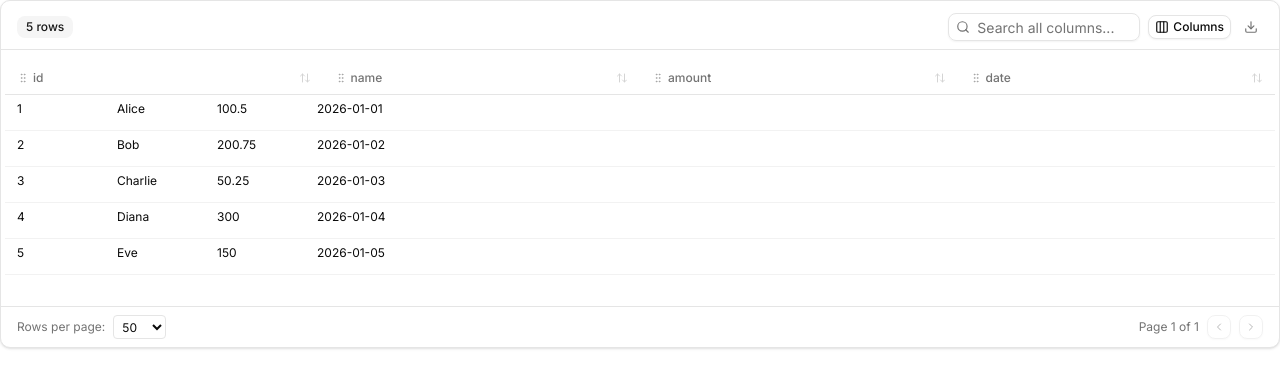
DataTable › sorts ascending on header click
Note: Click the name column header to sort ascending
What coordinates should you click on to do the following:
click the column heading with test id "column-header-name"
I would click on:
 (481, 78)
Its box is x1=322 y1=62 x2=640 y2=94.
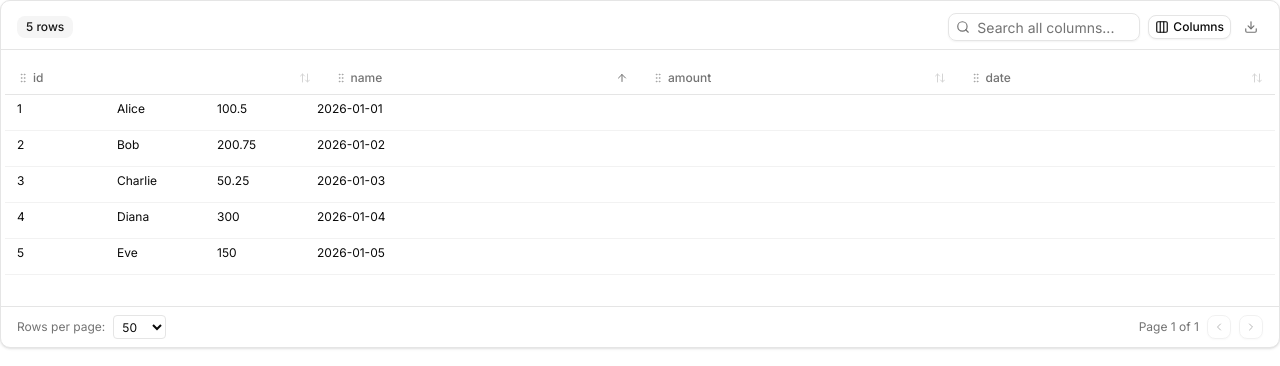
expect the text "Alice" is shown: met, box x1=117 y1=100 x2=145 y2=116
expect the icon with test id "sort-asc" is shown: met, box x1=616 y1=72 x2=628 y2=84
